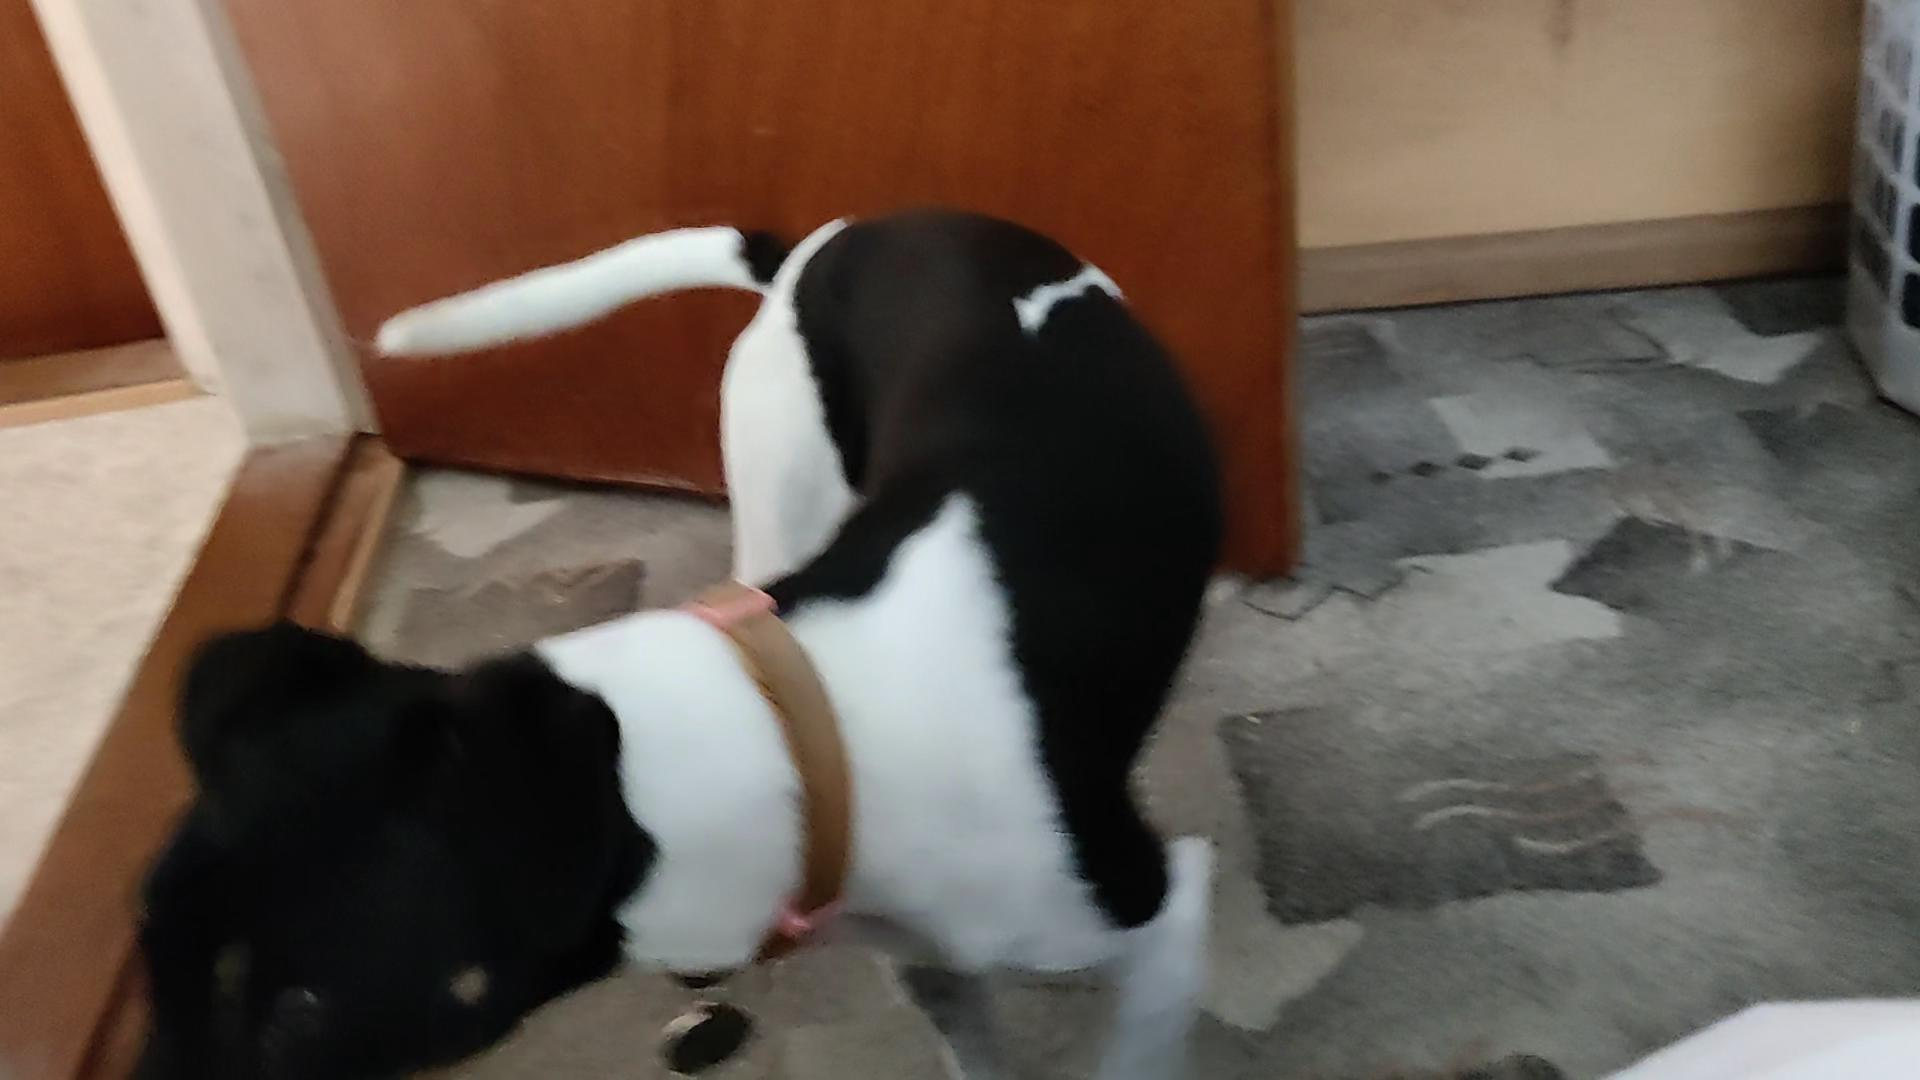Dog: (105, 194, 1271, 1079)
